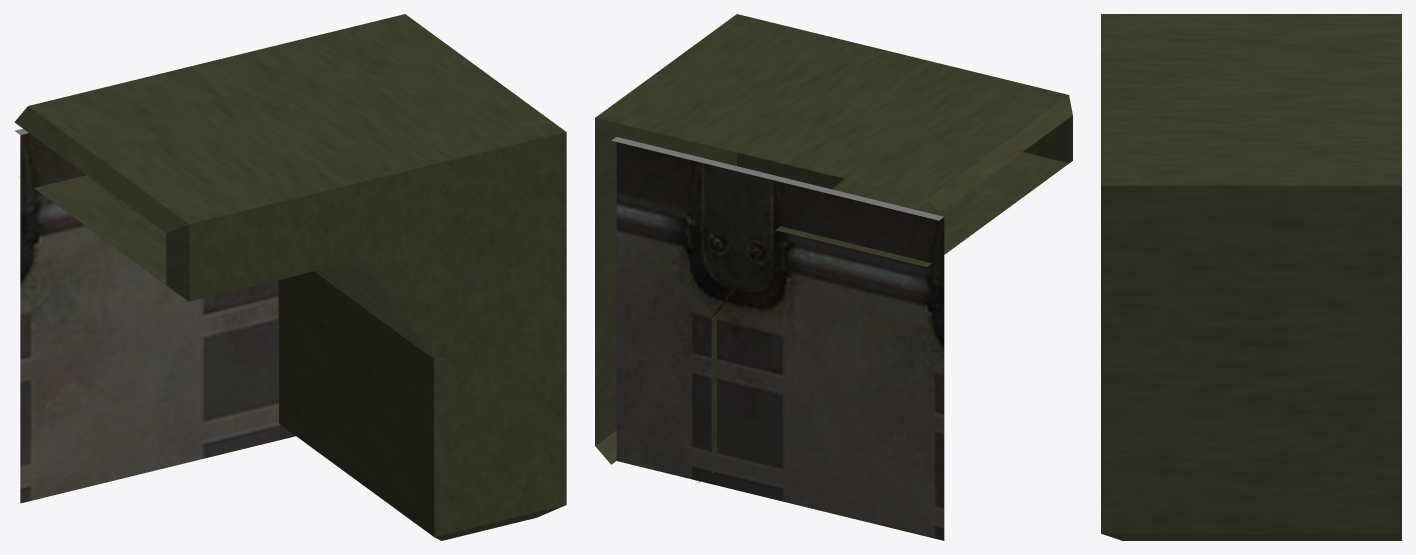
Rendered from CubeBaseFrontDoorTR.fbx.
3 views of the same model, side by side, from view 1: azimuth 30°, elevation 25°; view 2: azimuth 150°, elevation 25°; view 3: azimuth 270°, elevation 25° (orthographic). The views are drawn at different scales.
Parts seen in each view (by area): view 1: polySurface2, pCube12; view 2: pCube12, polySurface2; view 3: polySurface2.
Boxes of the visible parts, x1,y1,x2,y2 form: polySurface2: (14,14,566,540); pCube12: (14,128,295,503); pCube12: (612,137,944,540); polySurface2: (595,14,1072,483); polySurface2: (1101,14,1401,540).
Bounding box in the file's own units: 1.05 × 1 × 0.7501.
2 materials, 2 textured.
